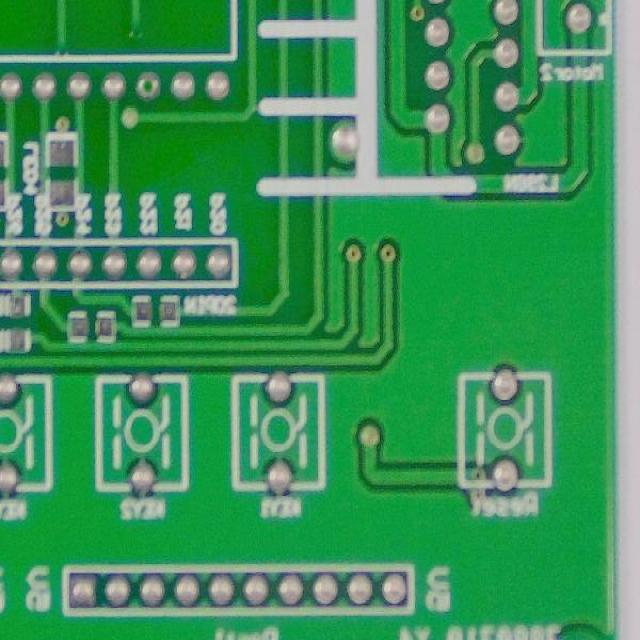missing hole: (132, 71, 163, 105)
